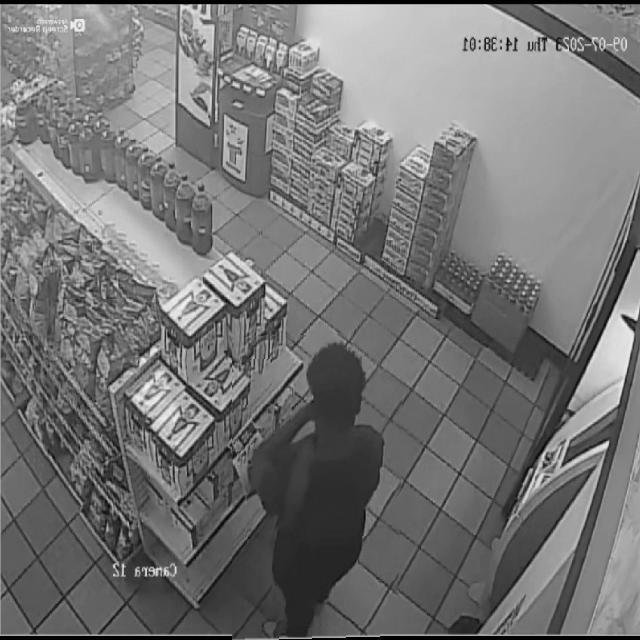normal: (232, 332, 404, 640)
